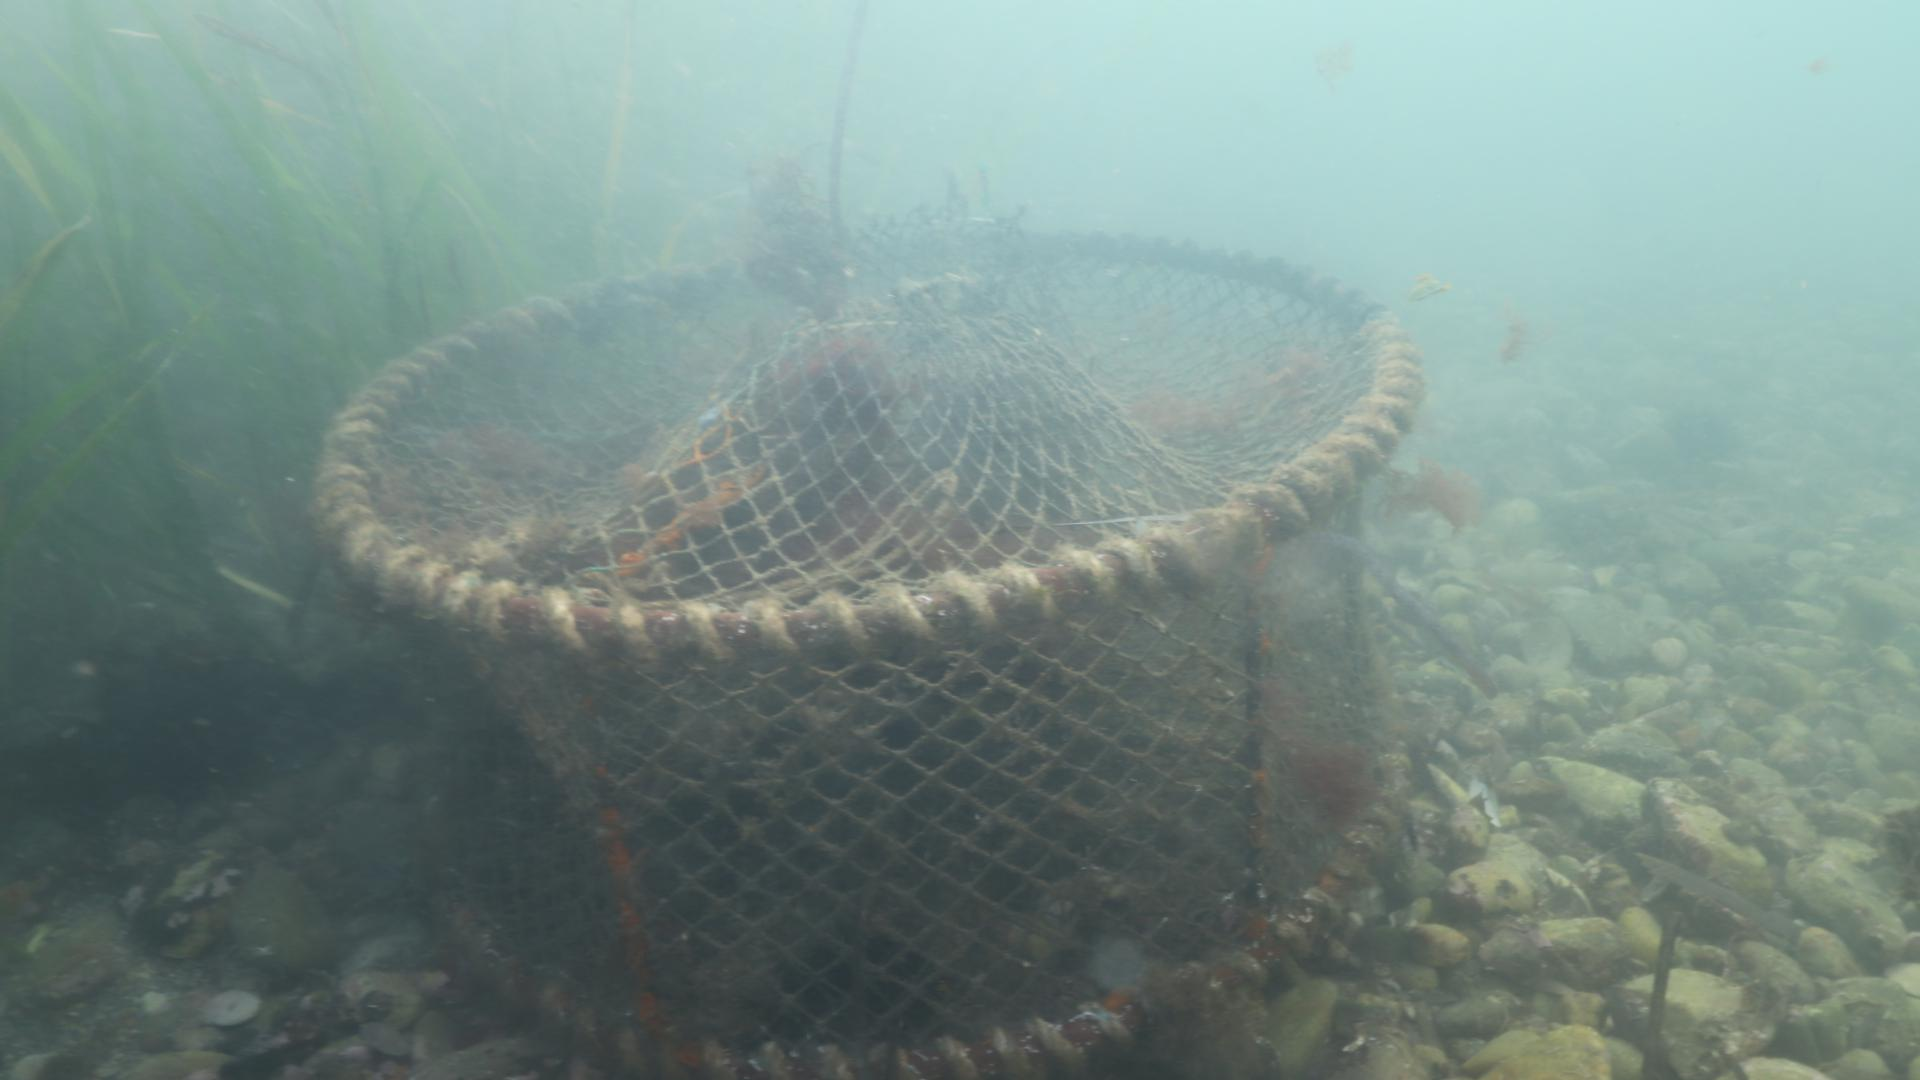circular fish trap: (319, 200, 1420, 1080)
